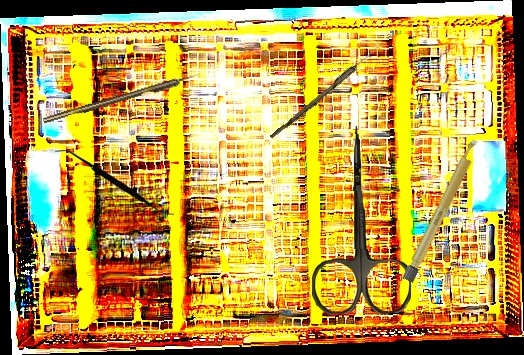Hook Surgical: (42, 71, 202, 125)
Iris Scissors: (309, 125, 412, 315)
Scalpel Handle: (401, 137, 483, 284)
Spatula Surgical: (55, 150, 175, 216)
Surgical Spoon: (269, 39, 386, 142)
